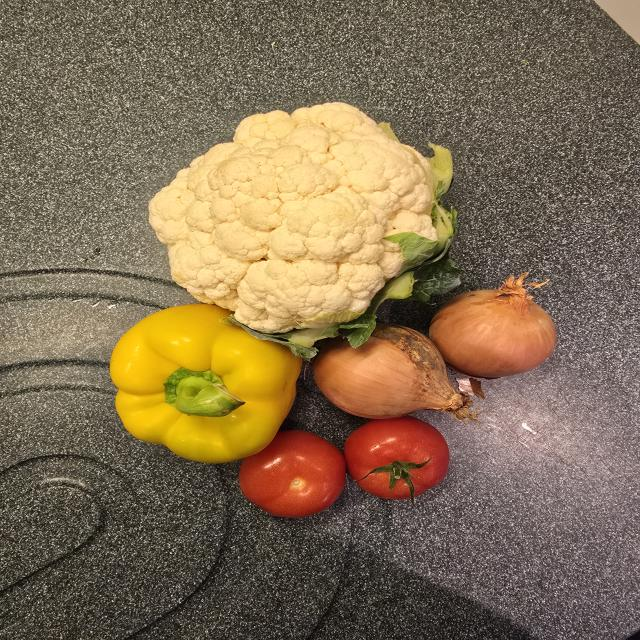Bell Pepper: (110, 304, 302, 463)
Cauliflower: (149, 102, 455, 346)
Onion: (313, 324, 474, 420), (429, 273, 556, 378)
Tomato: (239, 431, 345, 517), (344, 416, 449, 499)
